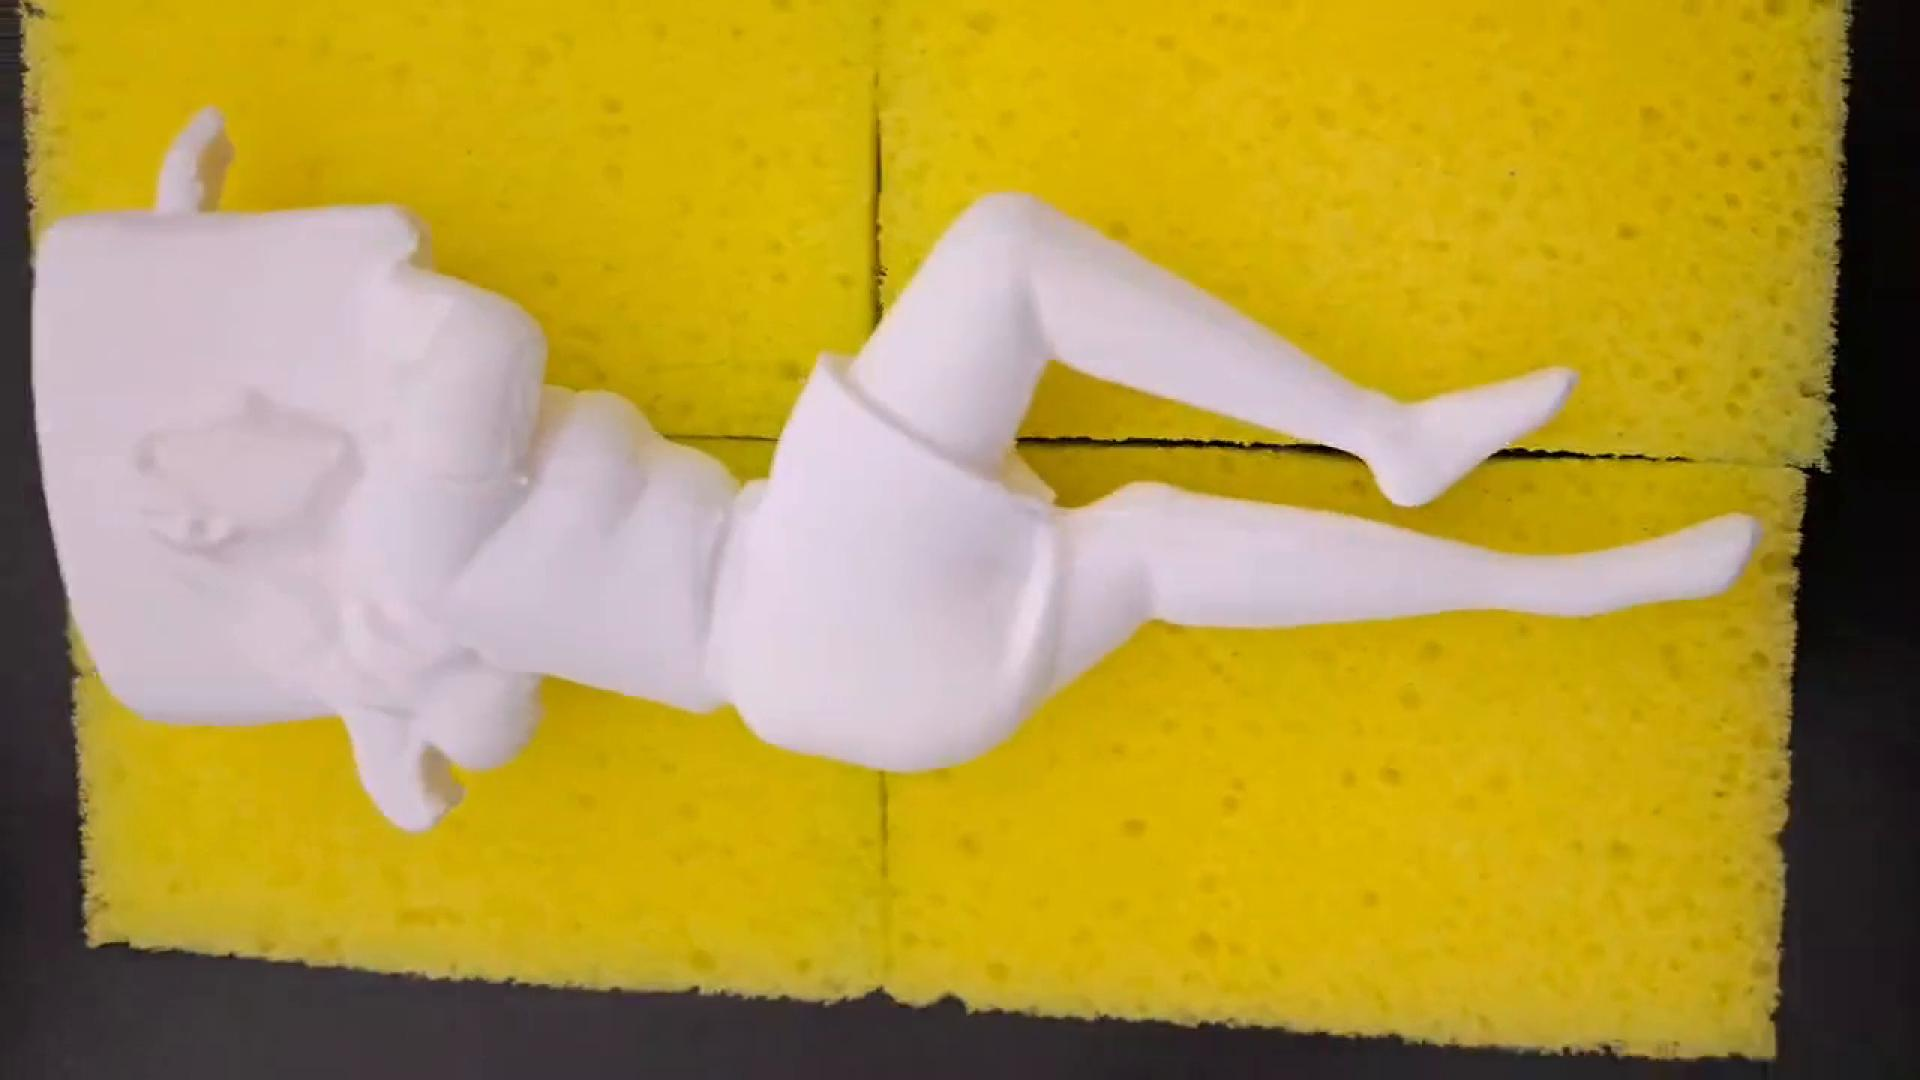Good-style: (29, 111, 1770, 833)
